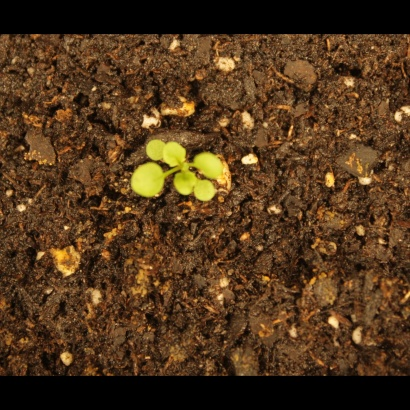leaf: (126, 160, 171, 200), (191, 151, 229, 183), (139, 131, 168, 166), (158, 141, 192, 168), (172, 167, 199, 197), (193, 178, 220, 204)
